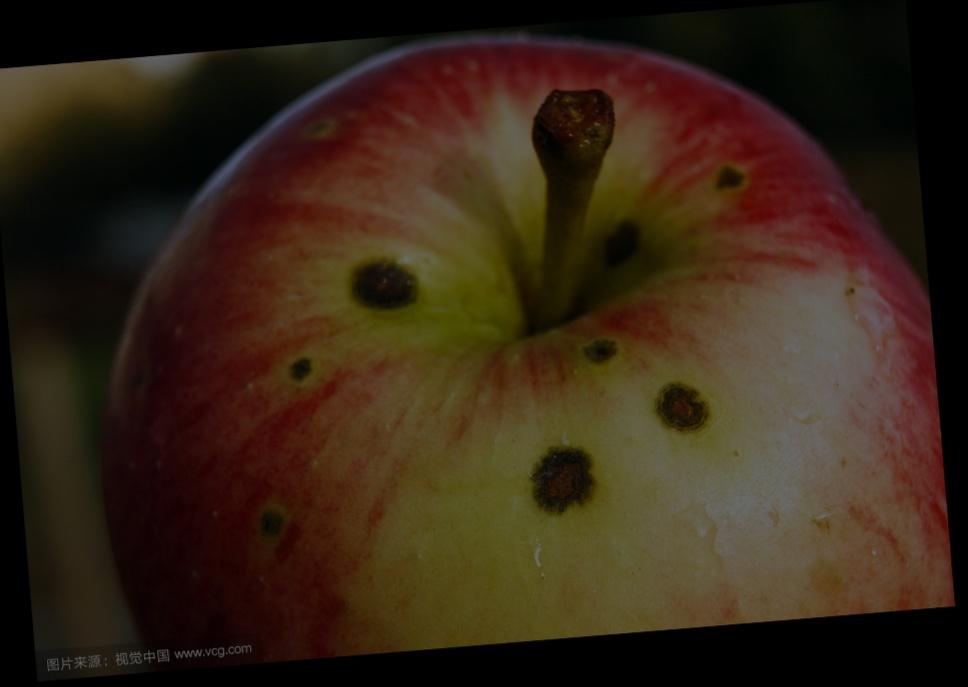rotten apple: (91, 29, 930, 641)
